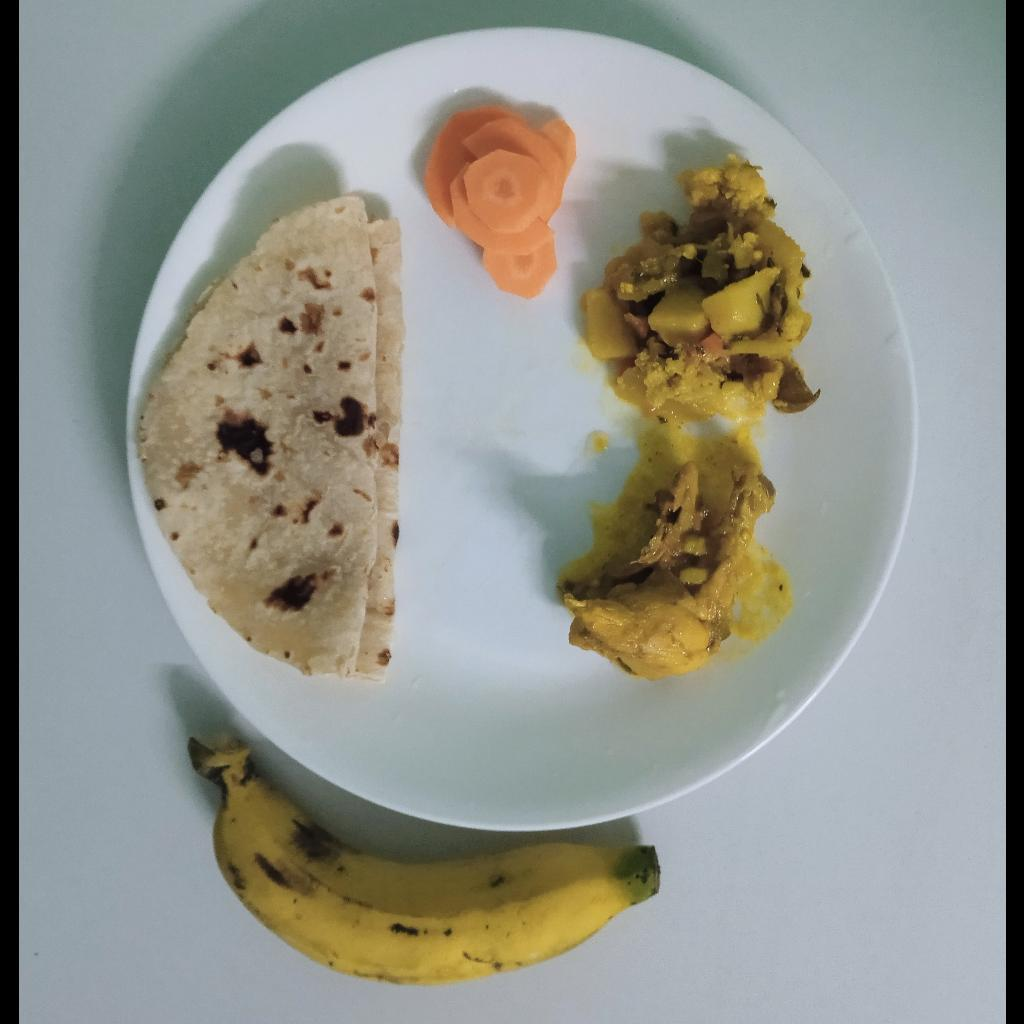banana: (187, 739, 658, 985)
carrot: (422, 106, 574, 300)
chicken: (563, 459, 774, 681)
ruti: (134, 192, 402, 681)
vegetable: (581, 159, 820, 420)
